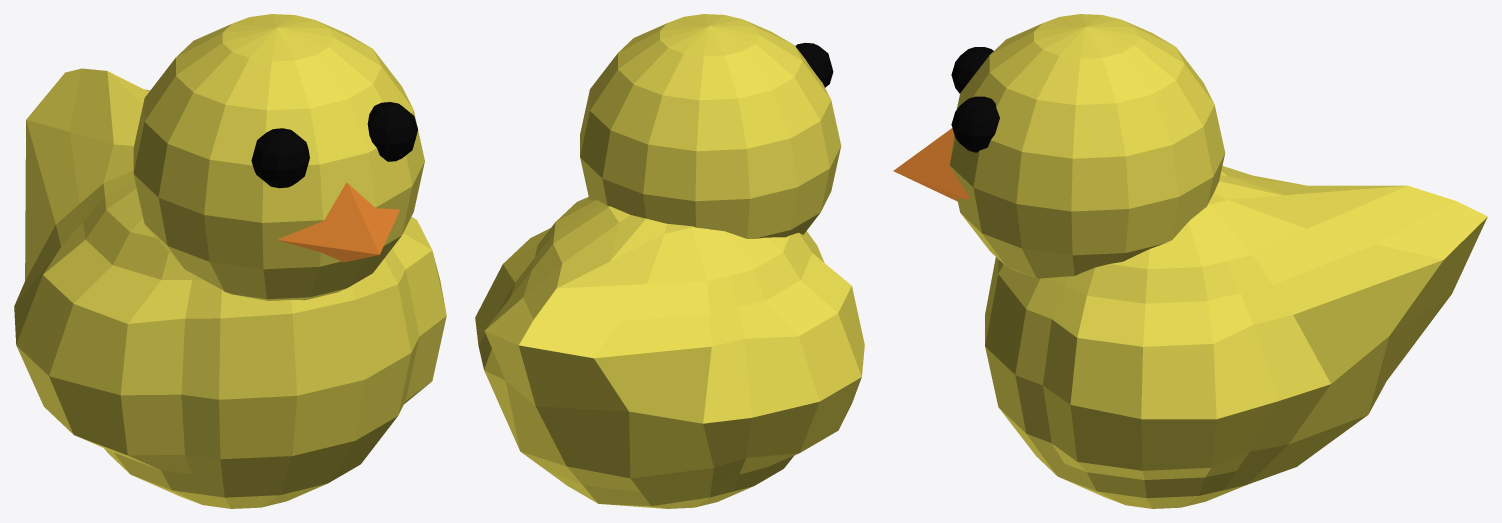
The model's file is DuckMan.fbx.
The picture shows the model from 3 angles, left to right: view 1: azimuth 30°, elevation 25°; view 2: azimuth 150°, elevation 25°; view 3: azimuth 270°, elevation 25°; orthographic projection. The views are drawn at different scales.
Visible parts, largest first — view 1: Body, Head, Beak, Sphere.001, Sphere; view 2: Body, Head, Sphere.001; view 3: Body, Head, Beak, Sphere, Sphere.001.
Part boxes in pixels (x1=…): Body: x1=14, y1=68, x2=446, y2=508; Head: x1=133, y1=14, x2=424, y2=300; Beak: x1=278, y1=182, x2=399, y2=262; Sphere.001: x1=251, y1=128, x2=309, y2=188; Sphere: x1=367, y1=102, x2=417, y2=161; Body: x1=475, y1=197, x2=864, y2=508; Head: x1=580, y1=14, x2=841, y2=238; Sphere.001: x1=795, y1=42, x2=833, y2=87; Body: x1=985, y1=166, x2=1487, y2=508; Head: x1=950, y1=14, x2=1225, y2=278; Beak: x1=893, y1=128, x2=969, y2=201; Sphere: x1=951, y1=96, x2=999, y2=152; Sphere.001: x1=951, y1=47, x2=993, y2=93.
Bounding box in the file's own units: 239 × 288 × 333.
